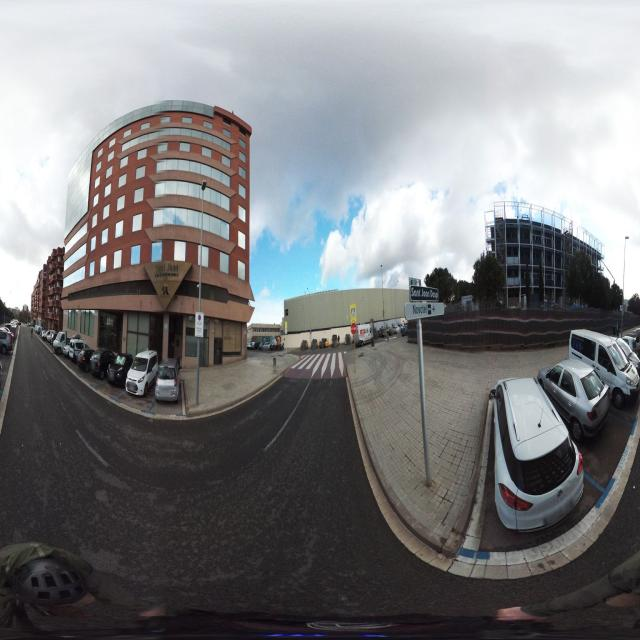forb_stopping: (198, 314, 201, 323)
